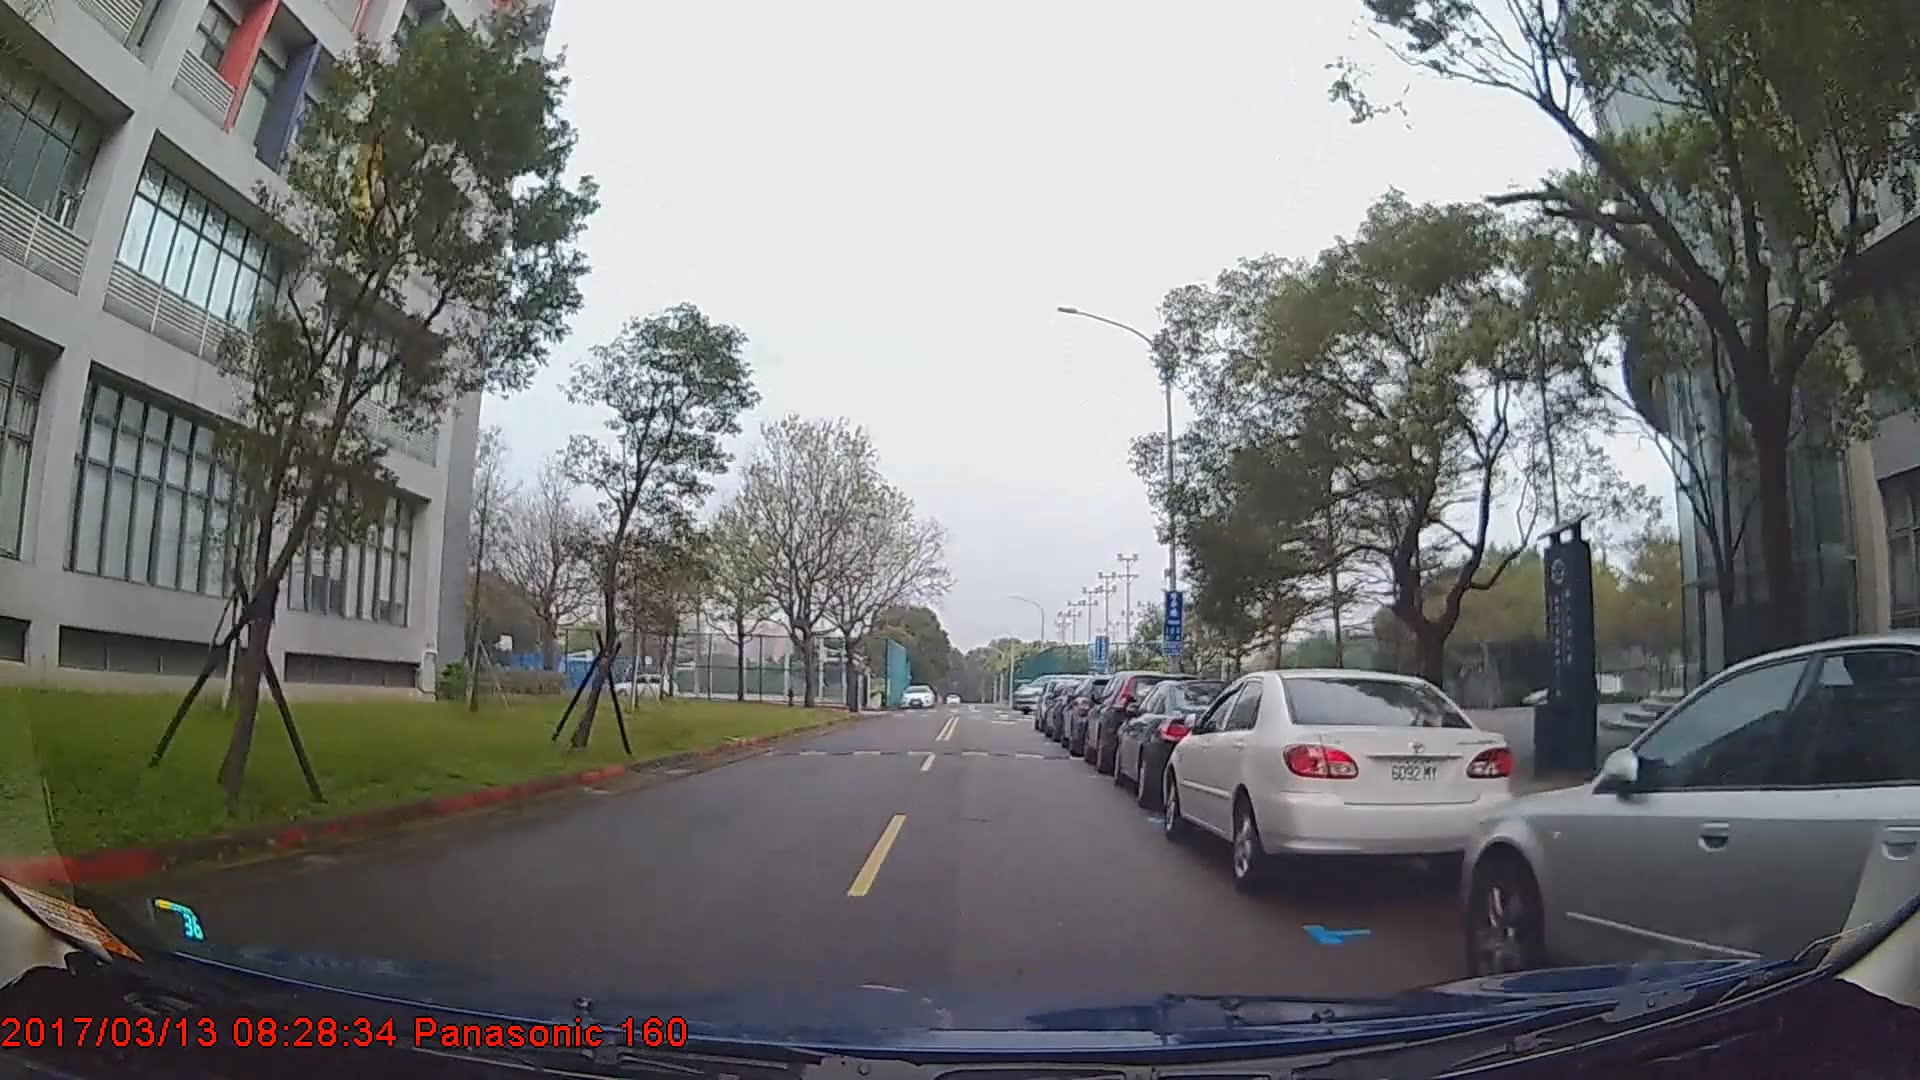vehicle: (1460, 626, 1919, 1002), (1159, 667, 1518, 893), (1112, 676, 1262, 810), (609, 671, 676, 699), (899, 684, 934, 708)
